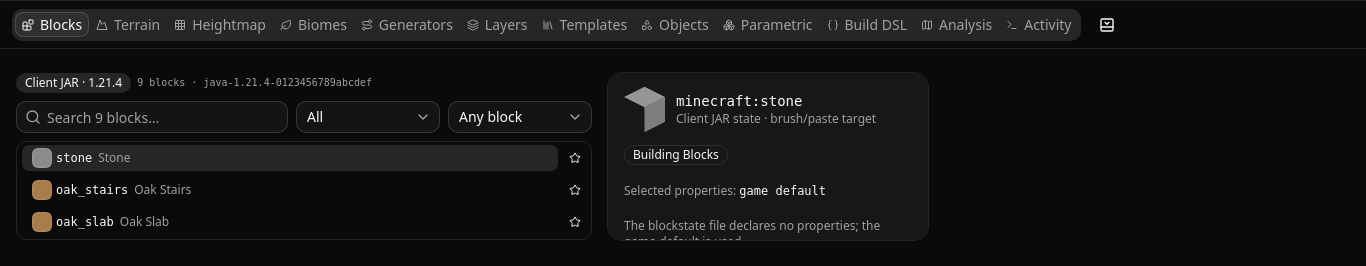
Scenario: block palette › groups console and history under Activity
Click the tab "Activity".
click(1039, 24)  # box [999,12,1078,37]
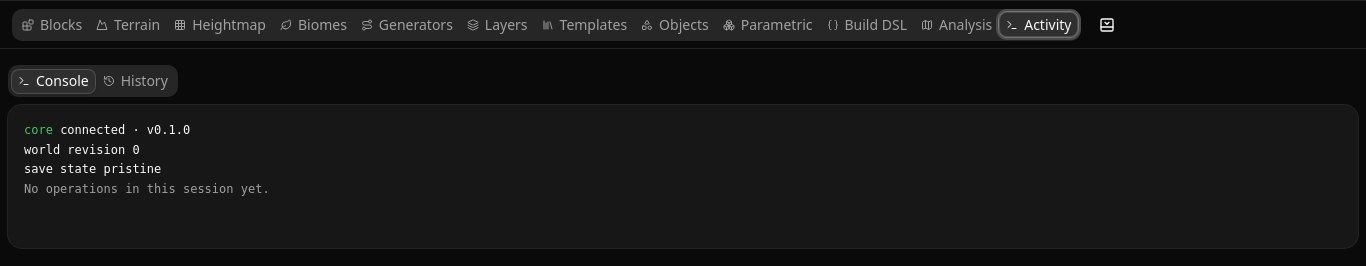
Check: the tab "History" is shown, box [96,68,175,94]
